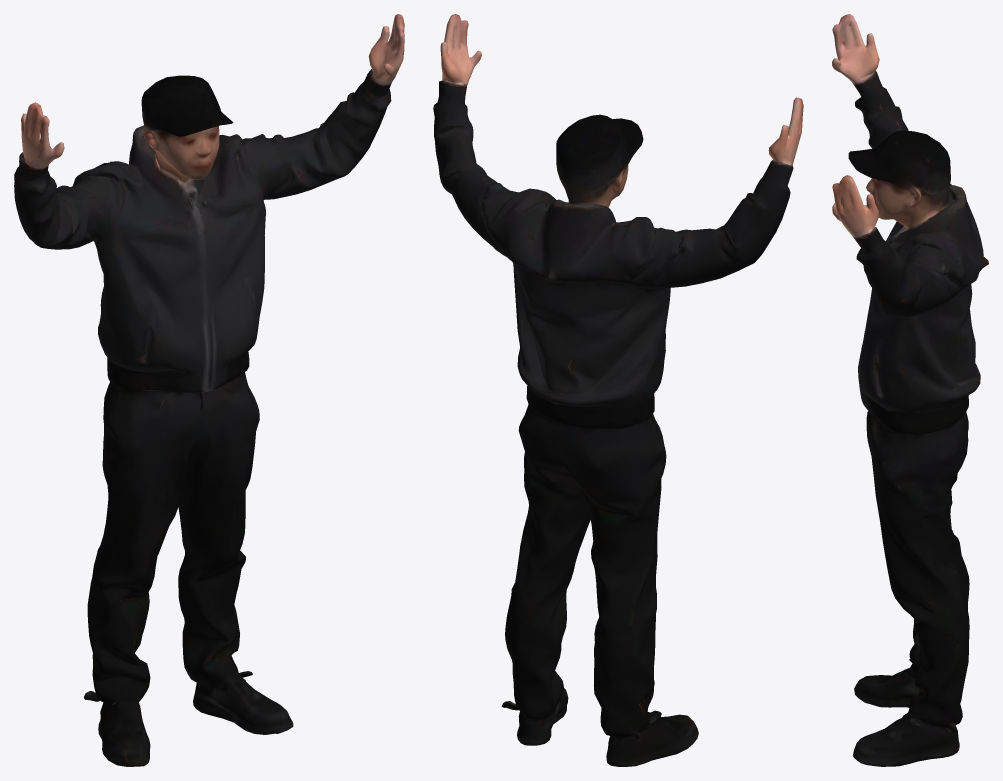
Rendered from fan-m-cap-s1.glb.
3 renders of one model, left to right at view 1: azimuth 30°, elevation 25°; view 2: azimuth 150°, elevation 25°; view 3: azimuth 270°, elevation 25°, orthographic. The views are drawn at different scales.
Visible parts, largest first — view 1: geometry_0; view 2: geometry_0; view 3: geometry_0.
Part boxes in pixels (x1,y1,x2,y2): geometry_0: [14, 14, 404, 766]; geometry_0: [433, 14, 803, 766]; geometry_0: [832, 14, 988, 766].
Bounding box in the file's own units: 0.5633 × 1 × 0.224.
1 material, 1 textured.
